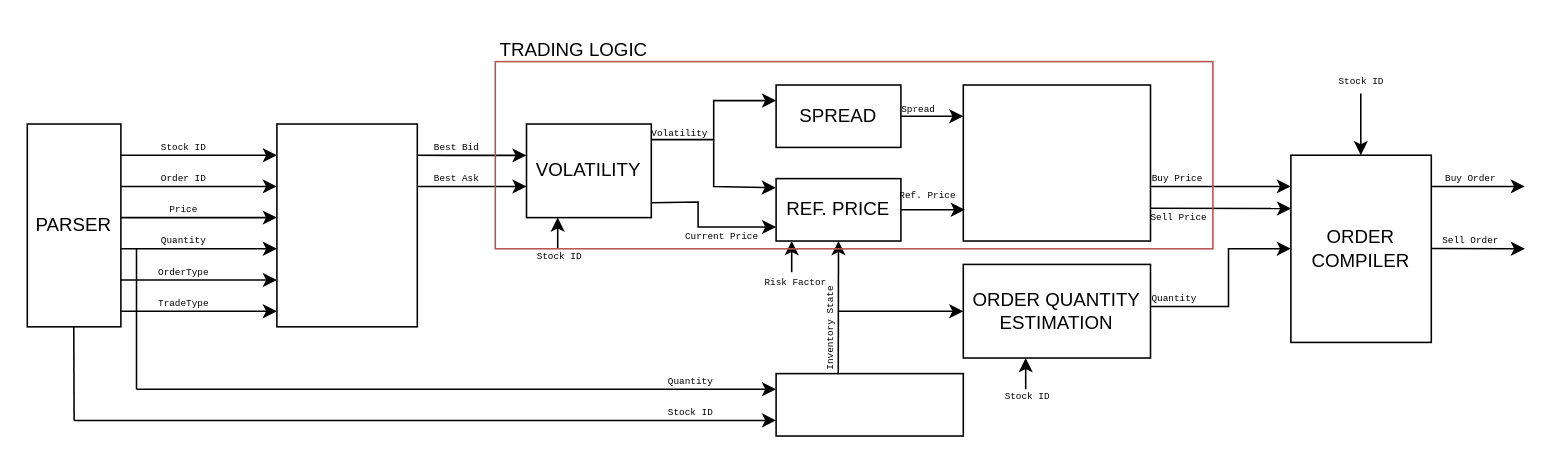
Some shapes in this 1565 by 463 pixel diagram are drawn without their labels. The centre of each missing label's shape, as x and y in pixels:
INVENTORY: point (869, 404)
ORDER BOOK: point (346, 224)
QUOTE PRICE: point (1056, 162)
